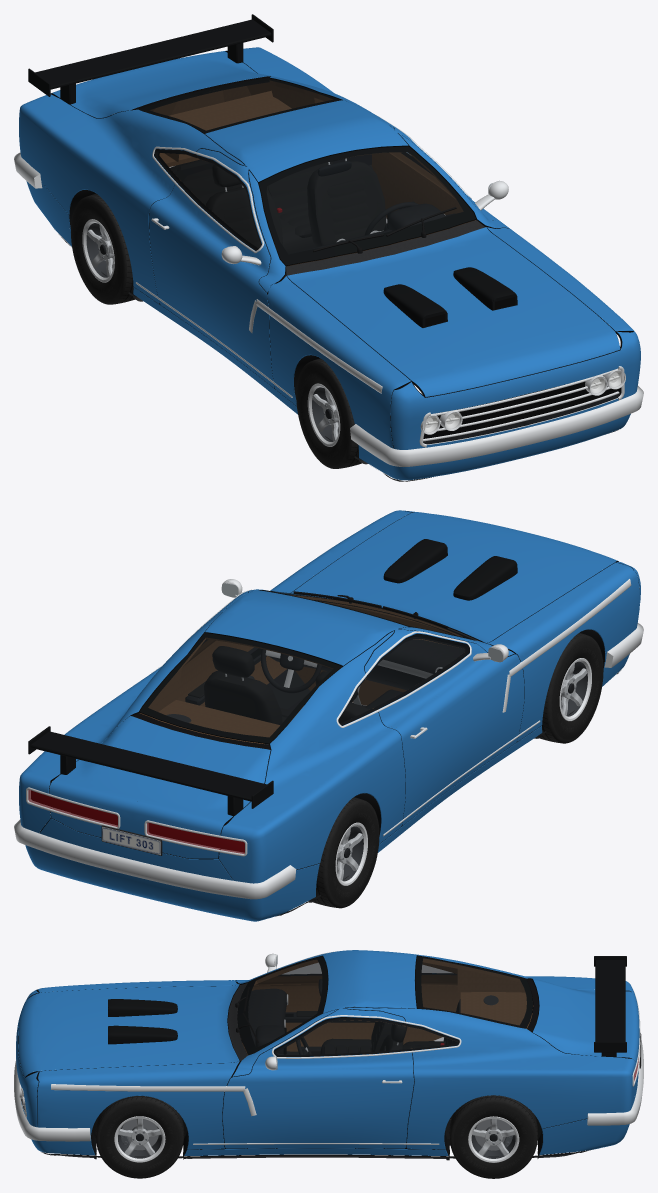
The model's file is ram-air-coupe.glb.
The picture shows the model from 3 angles, top to bottom: view 1: azimuth 30°, elevation 25°; view 2: azimuth 150°, elevation 25°; view 3: azimuth 270°, elevation 25°; orthographic projection. The views are drawn at different scales.
Parts seen in each view (by area): view 1: Body, Wheel_RR, Wheel_FR; view 2: Body, Wheel_RR, Wheel_FR, Steering_Wheel; view 3: Body, Wheel_RL, Wheel_FL.
Part boxes in pixels (bbox=[...]): Body: bbox=[14, 14, 643, 481]; Wheel_RR: bbox=[71, 193, 136, 304]; Wheel_FR: bbox=[296, 358, 362, 468]; Body: bbox=[14, 510, 643, 921]; Wheel_RR: bbox=[309, 797, 379, 908]; Wheel_FR: bbox=[537, 632, 603, 743]; Steering_Wheel: bbox=[261, 649, 322, 693]; Body: bbox=[14, 950, 643, 1160]; Wheel_RL: bbox=[449, 1095, 537, 1178]; Wheel_FL: bbox=[95, 1096, 184, 1178].
Bounding box in the file's own units: 2.04 × 1.37 × 4.97.
52 materials, 9 textured.
